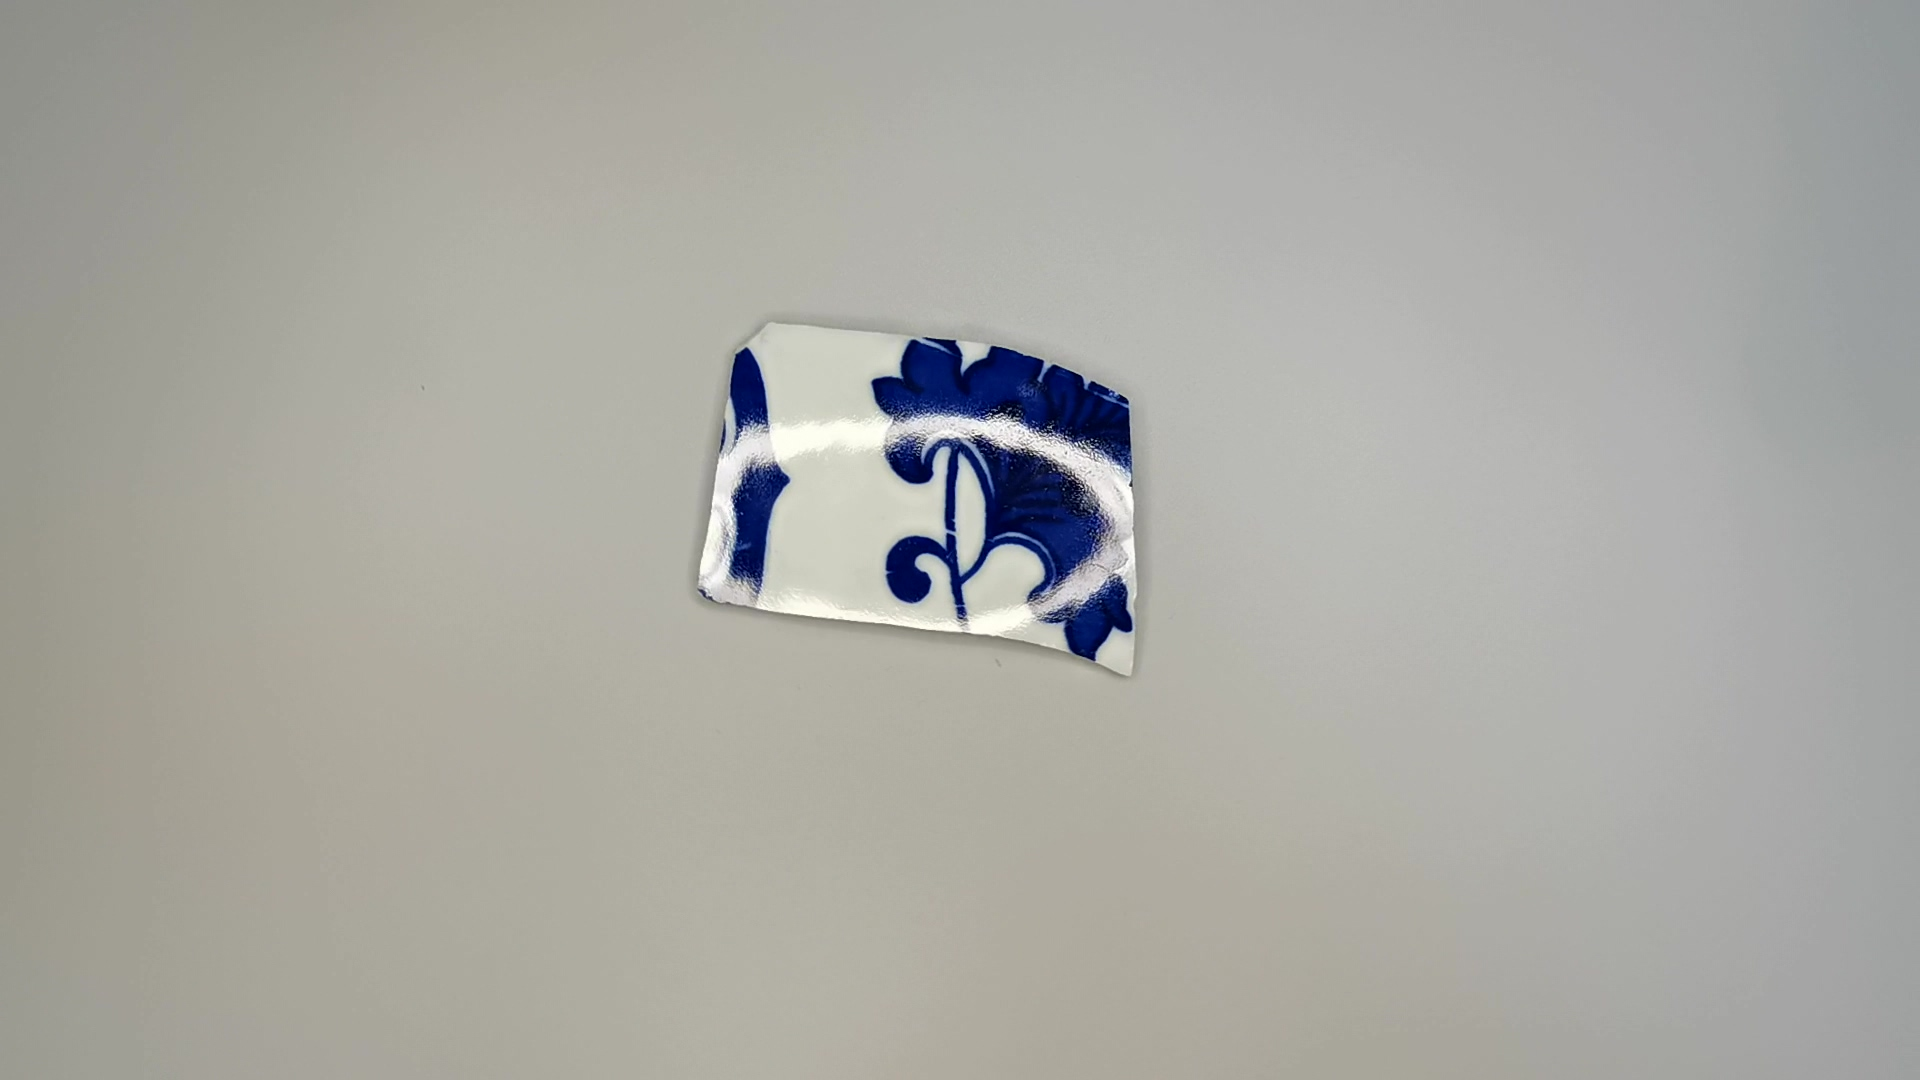ceramic: (691, 313, 1149, 688)
